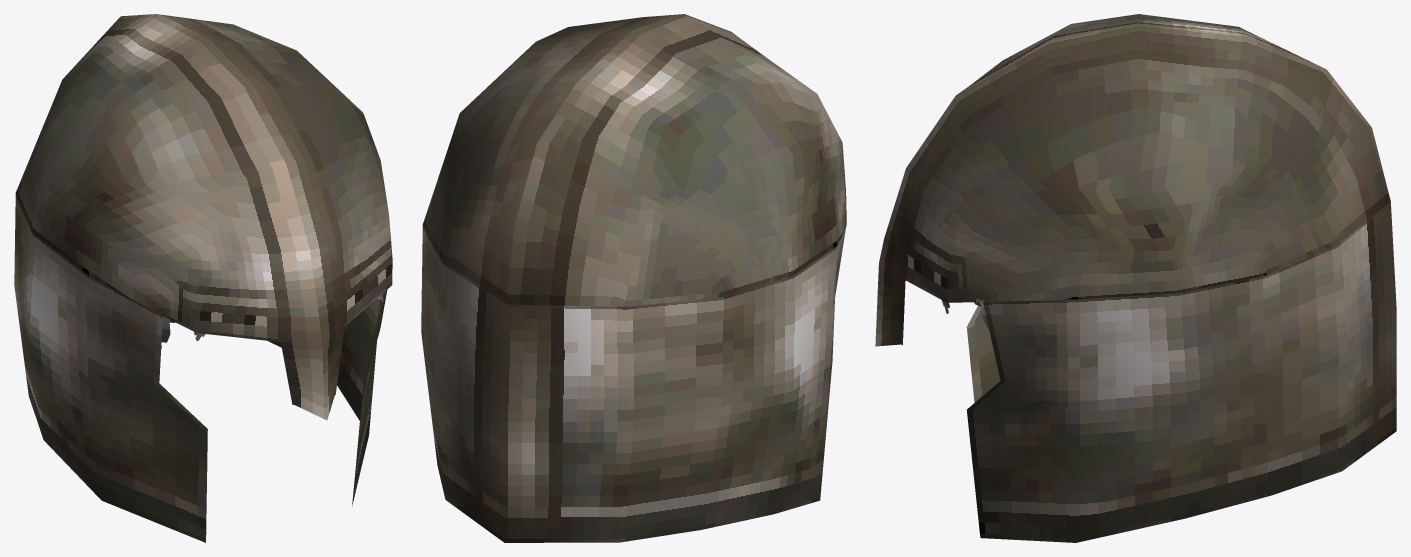
File: m_hair016.glb
3 renders of one model, left to right at view 1: azimuth 30°, elevation 25°; view 2: azimuth 150°, elevation 25°; view 3: azimuth 270°, elevation 25°, orthographic. The views are drawn at different scales.
Size of the model in its own units: 18.18 by 23.71 by 23.7.
1 material, 1 textured.
